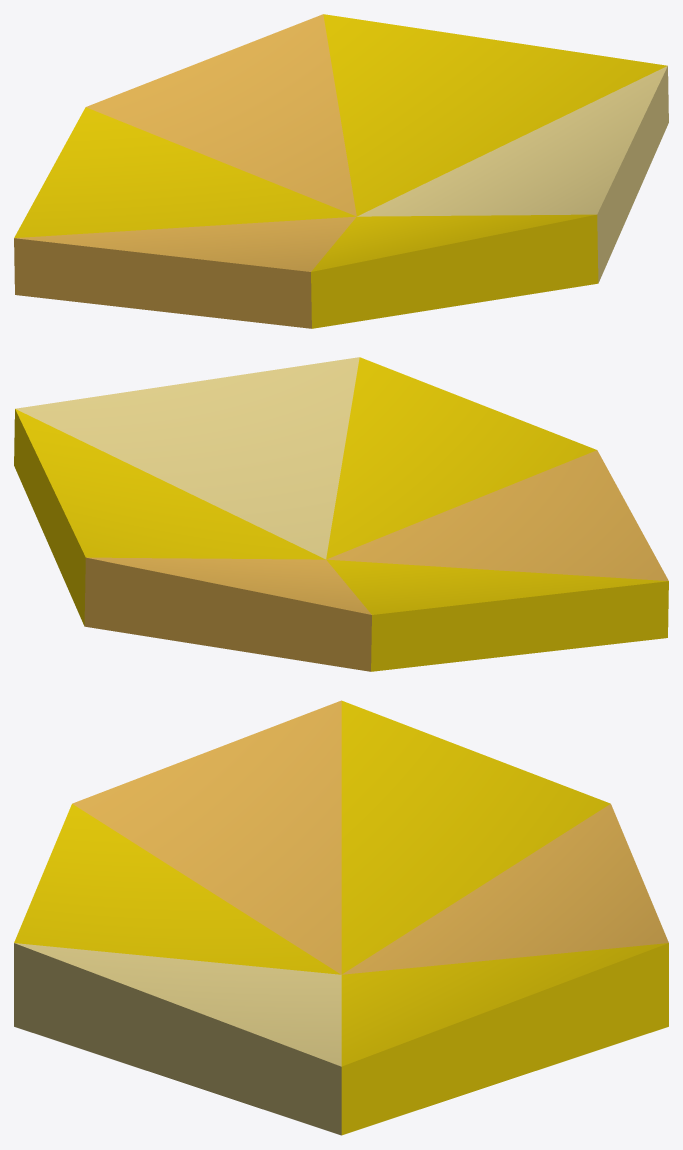
Rendered from Yellow_Leaf.fbx.
3 views of the same model, one above another, from view 1: azimuth 30°, elevation 25°; view 2: azimuth 150°, elevation 25°; view 3: azimuth 270°, elevation 25° (orthographic). The views are drawn at different scales.
Visible parts, largest first — view 1: pCylinder3; view 2: pCylinder3; view 3: pCylinder3.
Part boxes in pixels (box(x1,y1,x2,y2)): pCylinder3: box(14, 14, 668, 328); pCylinder3: box(14, 357, 668, 671); pCylinder3: box(14, 700, 668, 1135).
Size of the model in its own units: 107 by 21.02 by 77.82.
